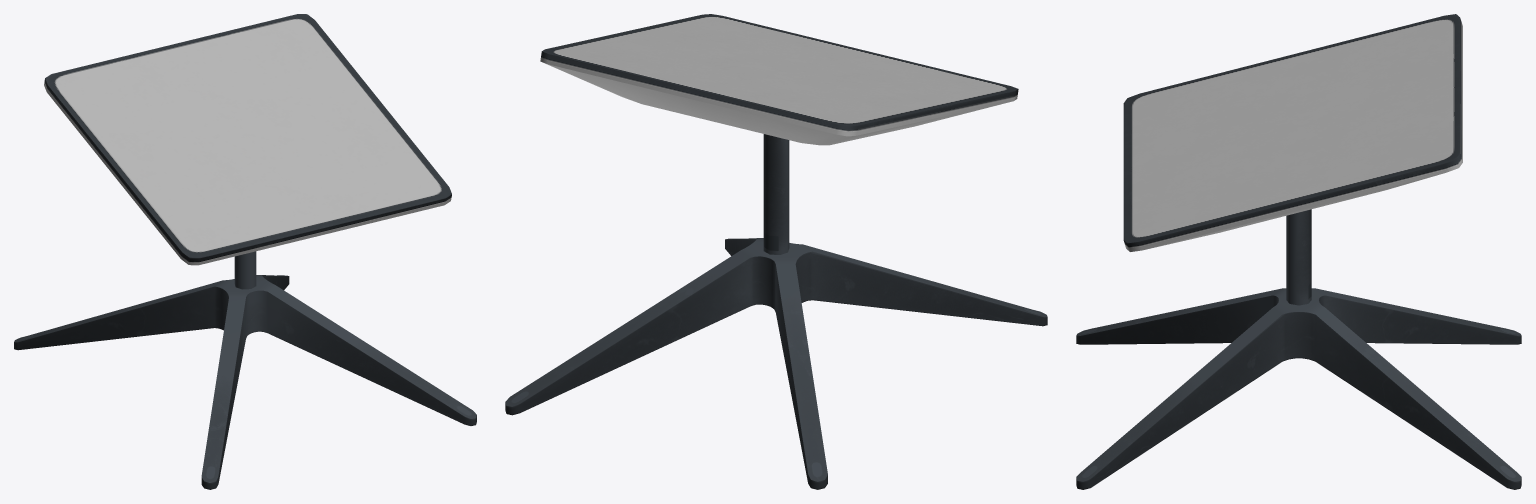
The model's file is starlink_satellite_dish.glb.
The picture shows the model from 3 angles, left to right: view 1: azimuth 30°, elevation 25°; view 2: azimuth 150°, elevation 25°; view 3: azimuth 270°, elevation 25°; orthographic projection. The views are drawn at different scales.
Visible parts, largest first — view 1: Object_2; view 2: Object_2; view 3: Object_2.
Part boxes in pixels (<box>): Object_2: <box>14,14,476,489</box>; Object_2: <box>505,14,1047,489</box>; Object_2: <box>1076,14,1521,489</box>.
Size of the model in its own units: 203 by 206 by 253.
Materials: 1 (1 with a texture image).
